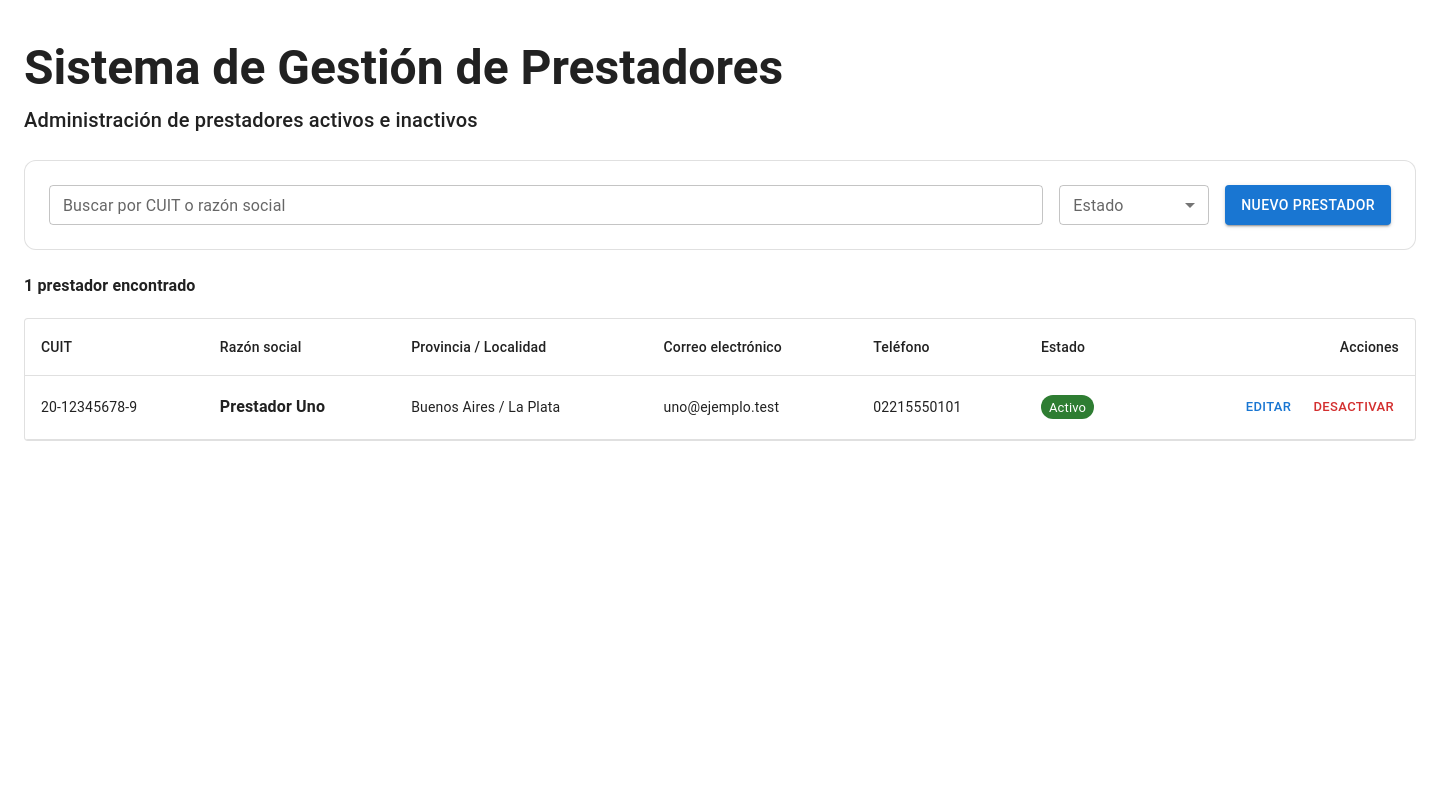
Test: Gestión de prestadores › abre confirmación de desactivación
This screenshot has width=1440, height=810.
Check: the text "1 prestador encontrado" is shown, box [24,276,196,295]
What coordinates should you click on to do the following:
click the button with aria-label "Desactivar Prestador Uno"
I would click on:
 (1354, 407)
Its box is [1308,392,1399,423].
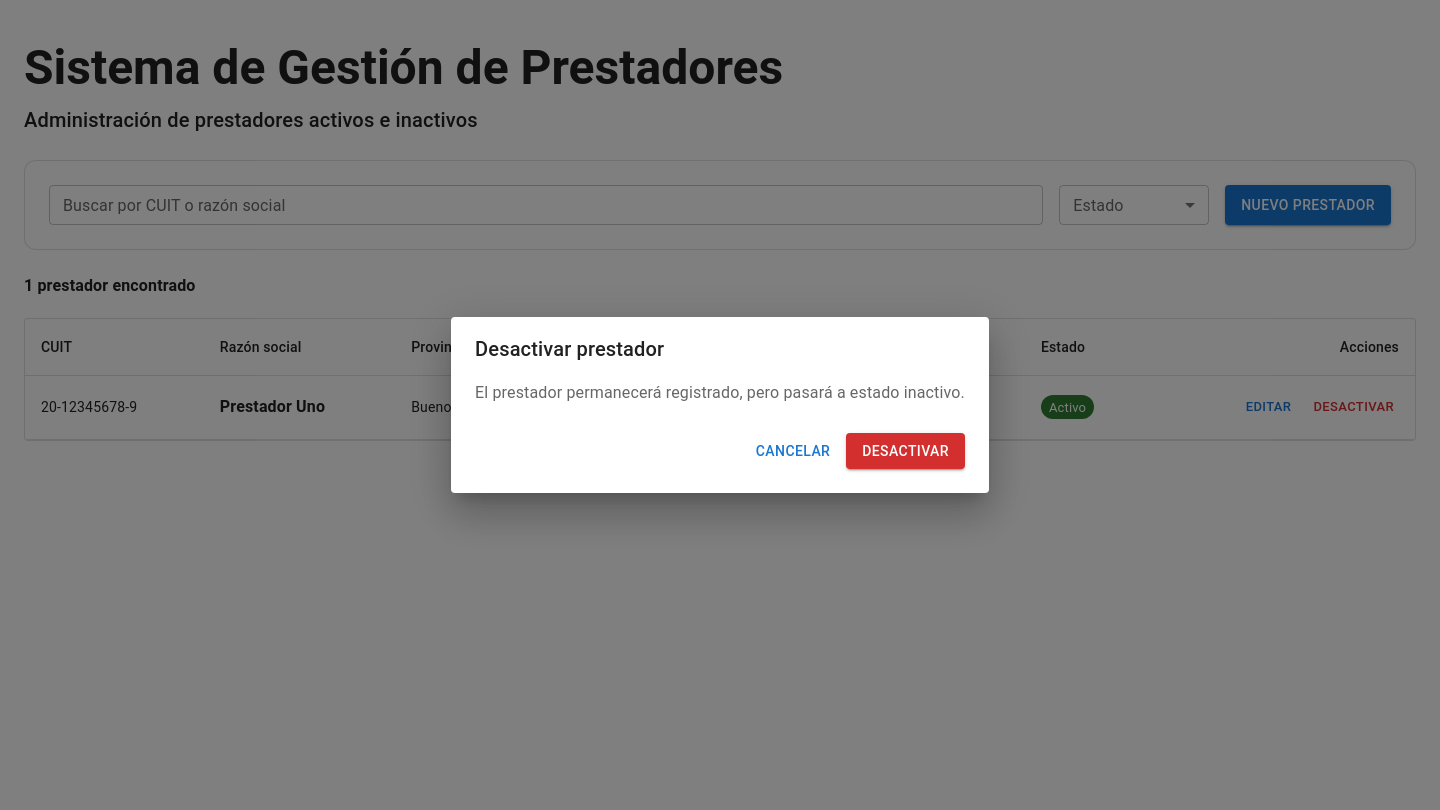
Check: the text "El prestador permanecerá registrado, pero pasará a estado inactivo." is shown, box [475,381,965,405]
